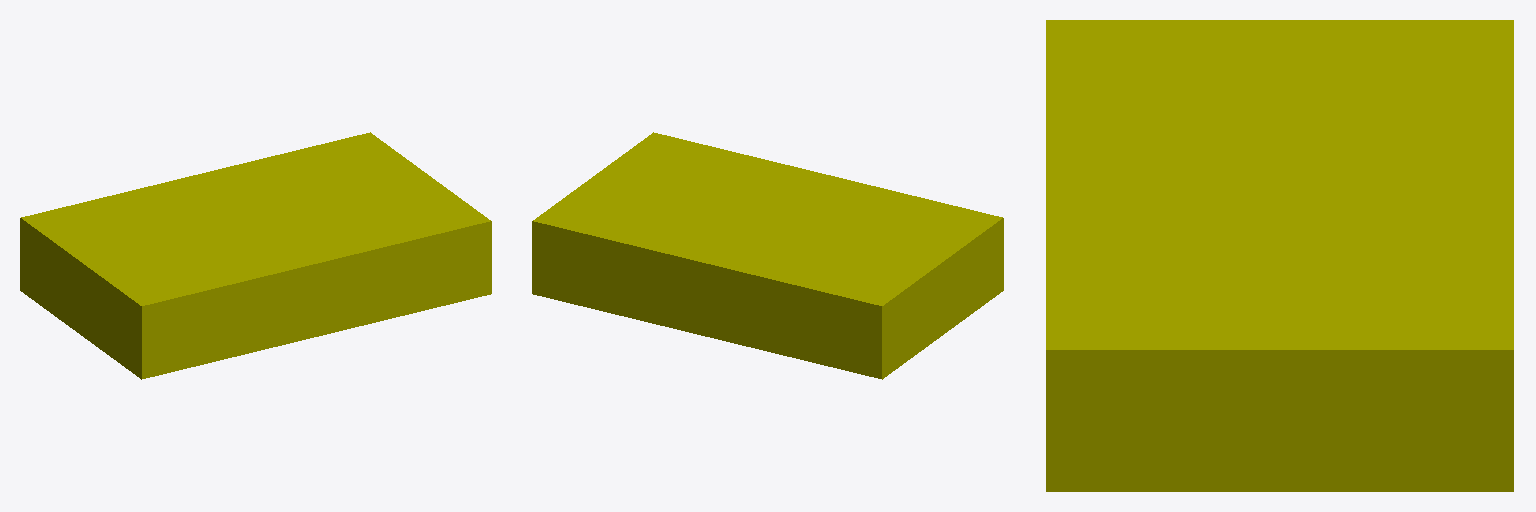
URDF robot description (link_demo):
<robot name="link_demo">
    <!-- 定义颜色 -->
    <material name="yellow">
      <color rgba="0.7 0.7 0 0.8" />
    </material>
    <link name="base_link">
      <visual>
          <!-- 形状 -->
          <geometry>
              <!-- 长方体的长宽高 -->
              <box size="0.5 0.3 0.1" />
              <!-- 圆柱，半径和长度 -->
              <!-- <cylinder radius="0.5" length="1.0" /> -->
              <!-- 球体，半径-->
              <!-- <sphere radius="0.3" /> -->
  
          </geometry>
          <!-- xyz坐标 rpy翻滚俯仰与偏航角度(3.14=180度) -->
          <origin xyz="0 0 0" rpy="0 0 0" />
          <!-- 调用已定义的颜色 -->
          <material name="yellow"/>
      </visual>
    </link>
  </robot>

--- Render facts (derived) ---
Views: 3 orthographic renders of the robot side by side, from view 1: azimuth 30°, elevation 25°; view 2: azimuth 150°, elevation 25°; view 3: azimuth 270°, elevation 25°.
Robot: link_demo — 1 links, 0 joints (none); root link base_link; default pose: all joints at 0.
Visible links, largest first — view 1: base_link; view 2: base_link; view 3: base_link.
Boxes of the visible links, x1=… form: base_link: x1=20, y1=132, x2=491, y2=379; base_link: x1=532, y1=132, x2=1003, y2=379; base_link: x1=1046, y1=20, x2=1513, y2=491.
Size in the robot's own frame: 0.5 by 0.3 by 0.1 metres.
Geometry: primitives only (box / cylinder / sphere), no mesh files.
